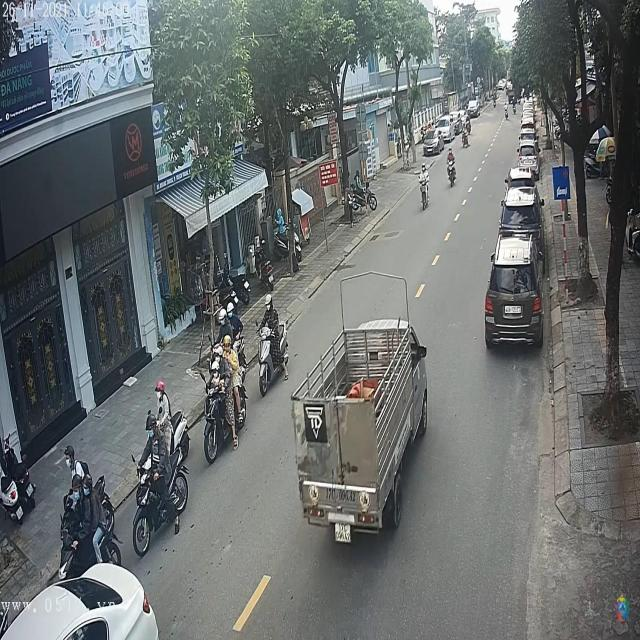car: (485, 244, 542, 350), (500, 186, 544, 239)
motorcycle: (130, 461, 192, 553), (202, 372, 246, 464), (255, 325, 291, 395), (418, 178, 434, 211), (449, 165, 456, 193)
truck: (287, 319, 428, 552)
